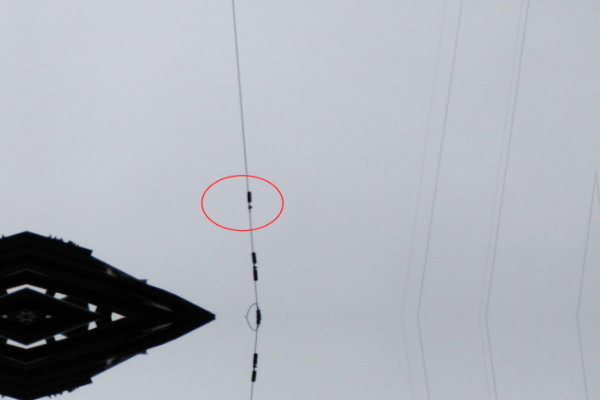damper: (249, 351, 261, 383), (249, 250, 260, 284)
damper_defect: (244, 188, 254, 216)
